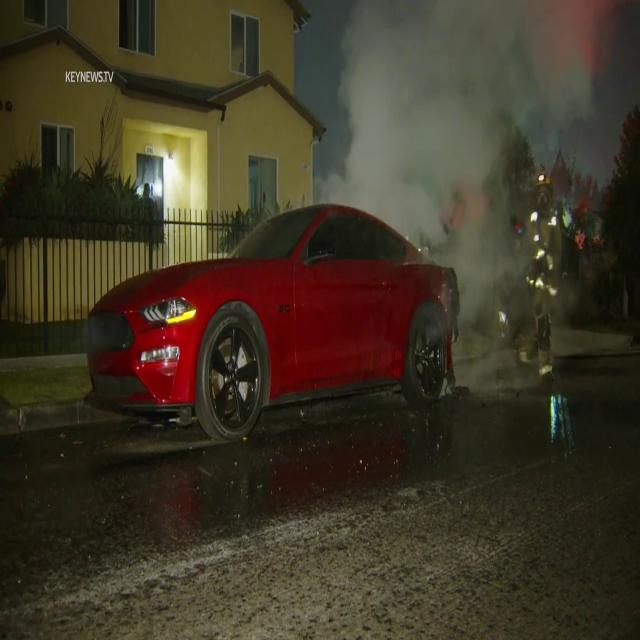Smoke: (322, 0, 599, 245)
